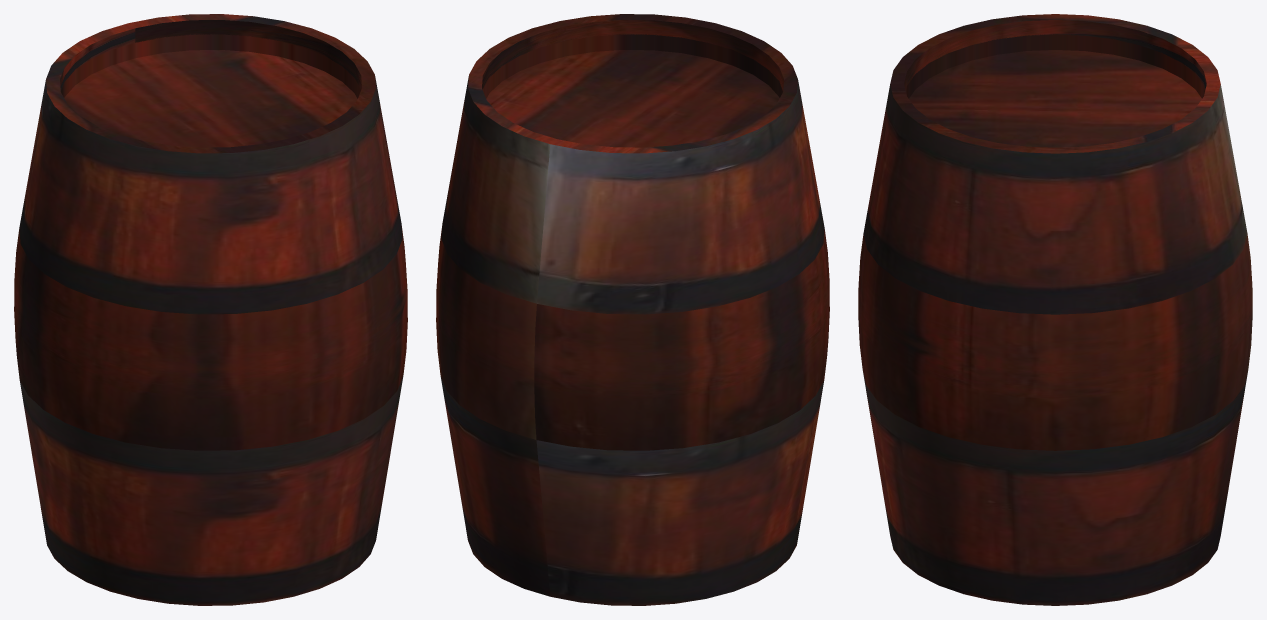
The model's file is Gentong tantuli.fbx.
The picture shows the model from 3 angles, left to right: view 1: azimuth 30°, elevation 25°; view 2: azimuth 150°, elevation 25°; view 3: azimuth 270°, elevation 25°; orthographic projection.
Parts seen in each view (by area): view 1: Cylinder, Cylinder.001; view 2: Cylinder, Cylinder.001; view 3: Cylinder, Cylinder.001.
Part boxes in pixels (x1,y1,x2,y2): Cylinder: (14,14,407,605); Cylinder.001: (61,34,360,147); Cylinder: (436,14,829,605); Cylinder.001: (483,34,782,147); Cylinder: (858,14,1252,605); Cylinder.001: (906,34,1204,147).
Bounding box in the file's own units: 239 × 302 × 239.
Materials: 1 (1 with a texture image).
